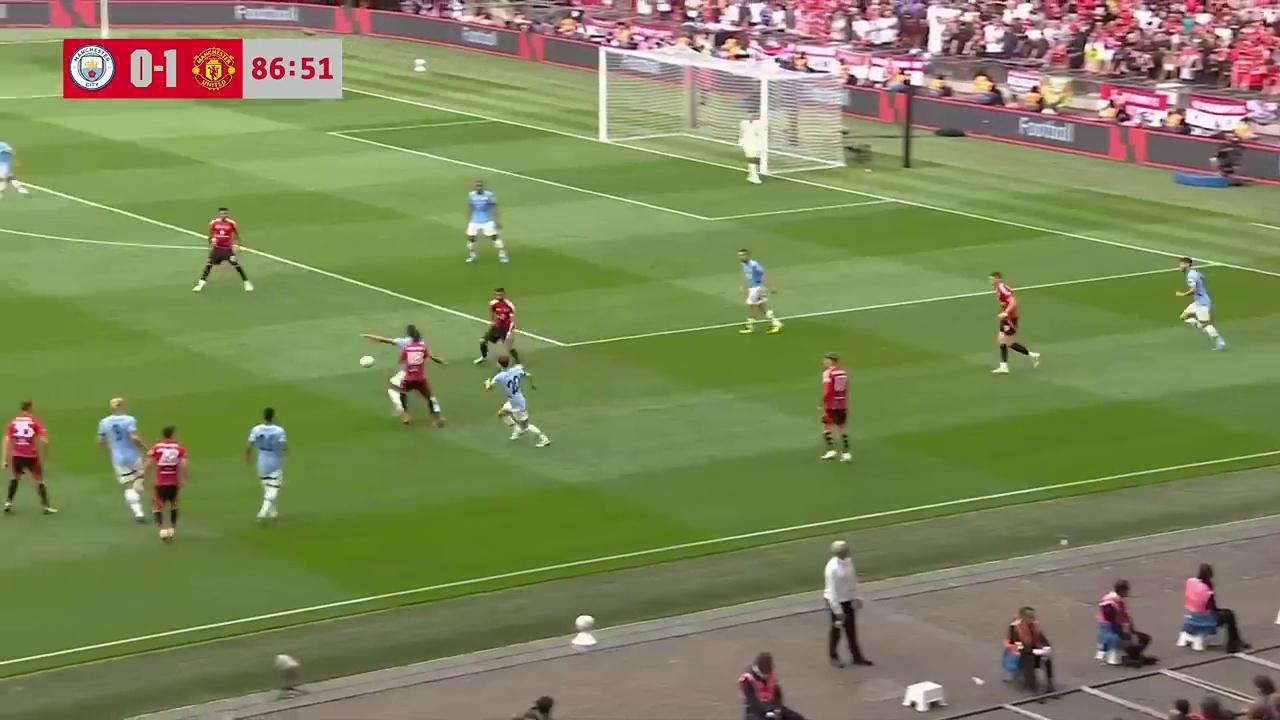ball: (358, 351, 377, 367)
player: (0, 399, 56, 515), (483, 353, 550, 445), (96, 394, 145, 513), (192, 206, 252, 293), (990, 272, 1040, 373), (246, 407, 287, 522), (402, 333, 449, 428), (150, 425, 187, 542), (1177, 263, 1226, 351), (383, 322, 423, 426), (736, 248, 781, 334), (464, 178, 509, 264), (473, 287, 520, 366), (818, 353, 851, 463), (737, 111, 767, 184), (0, 138, 29, 200)
